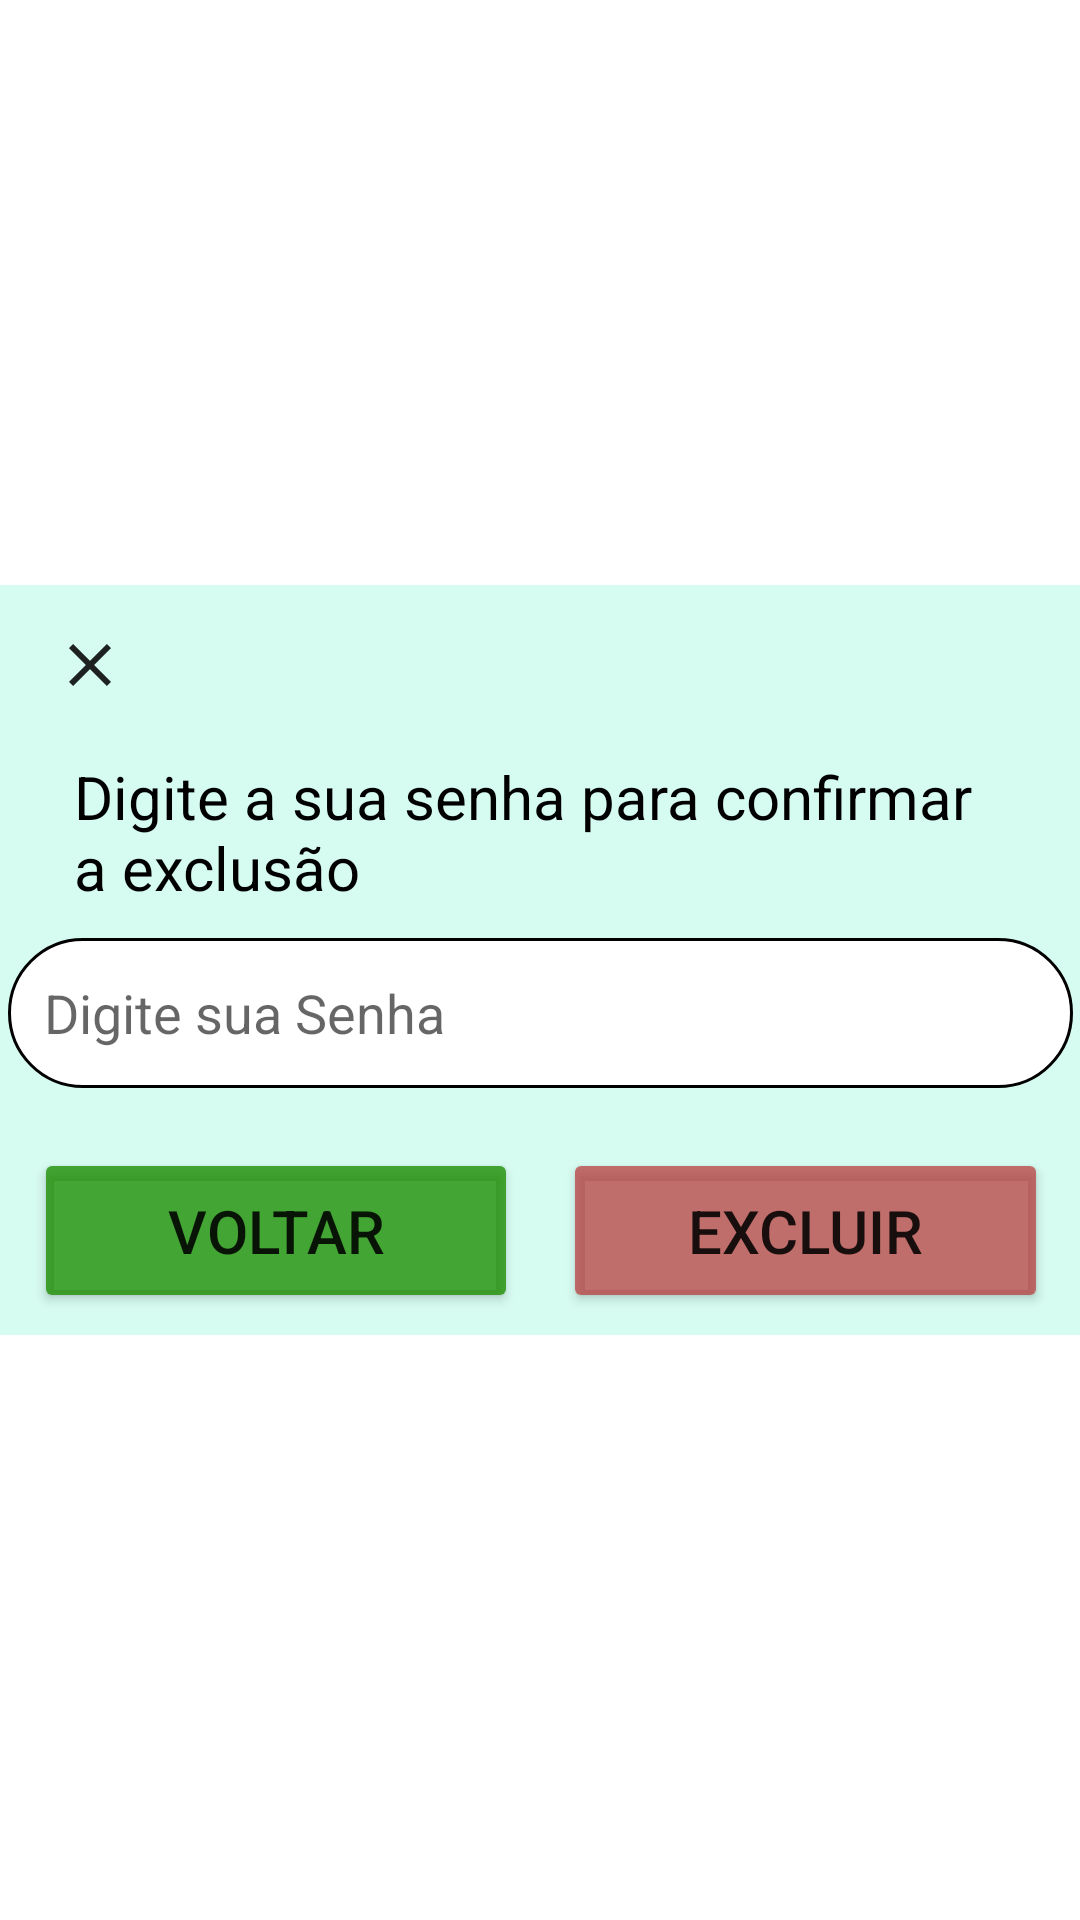

Icon click points for this 1080*1920 phone screenshot, format [x,y]:
close: [90,665]
